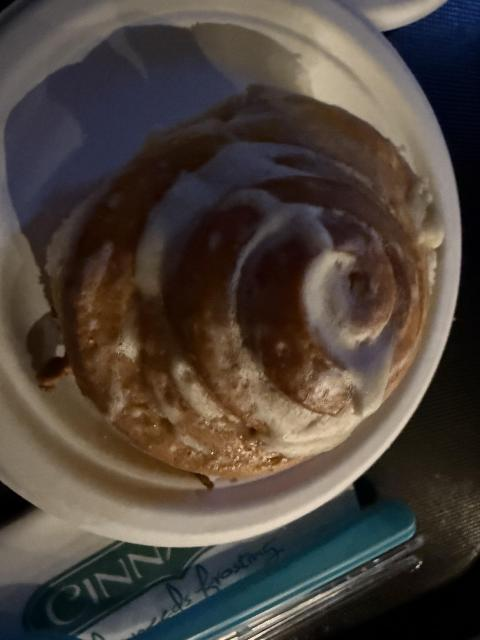Organik: (37, 90, 437, 476)
Plastik: (117, 514, 425, 640)
